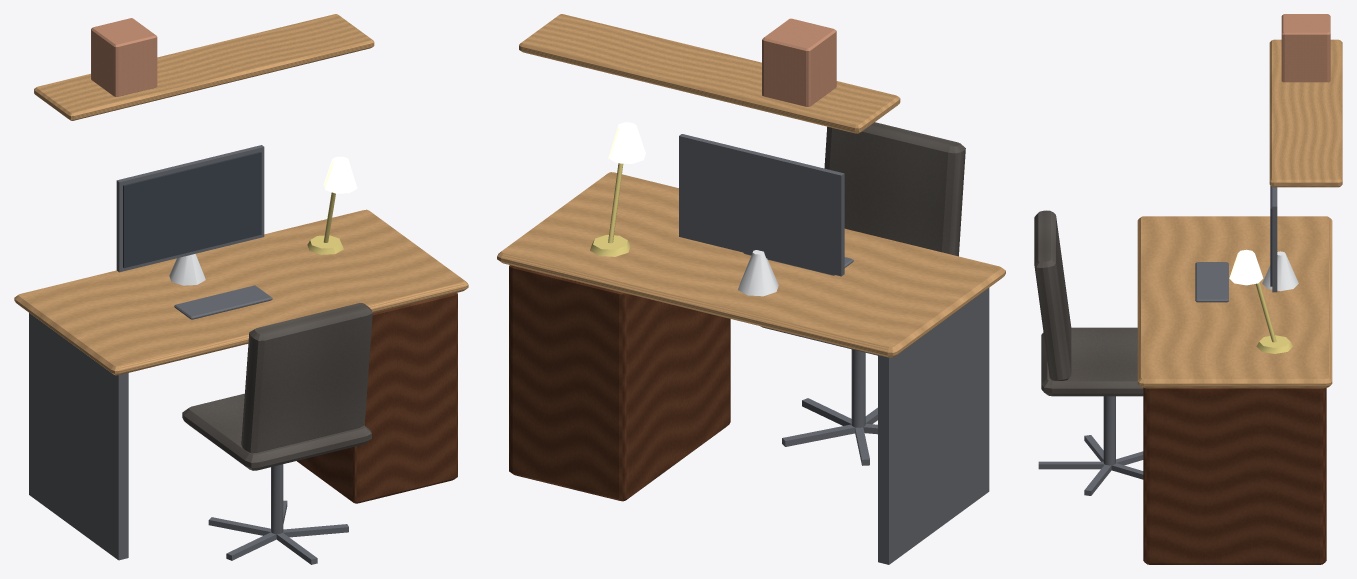
Rendered from work_desk_computer.glb.
The picture shows the model from 3 angles, left to right: view 1: azimuth 30°, elevation 25°; view 2: azimuth 150°, elevation 25°; view 3: azimuth 270°, elevation 25°; orthographic projection. The views are drawn at different scales.
Visible parts, largest first — view 1: work_desk_computer_woodOak, work_desk_computer_metalBlack, work_desk_computer_fabricCharcoal, work_desk_computer_woodWalnut, work_desk_computer_tvScreen, work_desk_computer_pillowTerra, work_desk_computer_emissiveWarm, work_desk_computer_metalChrome, work_desk_computer_metalBrass; view 2: work_desk_computer_woodOak, work_desk_computer_metalBlack, work_desk_computer_woodWalnut, work_desk_computer_fabricCharcoal, work_desk_computer_pillowTerra, work_desk_computer_metalChrome, work_desk_computer_emissiveWarm, work_desk_computer_metalBrass; view 3: work_desk_computer_woodOak, work_desk_computer_woodWalnut, work_desk_computer_fabricCharcoal, work_desk_computer_metalBlack, work_desk_computer_pillowTerra, work_desk_computer_emissiveWarm, work_desk_computer_metalBrass, work_desk_computer_metalChrome.
Boxes of the visible parts, x1,y1,x2,y2 form: work_desk_computer_woodOak: (14, 14, 468, 375); work_desk_computer_metalBlack: (29, 145, 348, 564); work_desk_computer_fabricCharcoal: (182, 303, 372, 470); work_desk_computer_woodWalnut: (297, 293, 457, 503); work_desk_computer_tvScreen: (123, 152, 261, 268); work_desk_computer_pillowTerra: (91, 18, 157, 96); work_desk_computer_emissiveWarm: (323, 156, 357, 193); work_desk_computer_metalChrome: (169, 254, 205, 285); work_desk_computer_metalBrass: (307, 192, 343, 254); work_desk_computer_woodOak: (497, 14, 1005, 357); work_desk_computer_metalBlack: (679, 134, 989, 564); work_desk_computer_woodWalnut: (509, 265, 730, 501); work_desk_computer_fabricCharcoal: (760, 122, 965, 355); work_desk_computer_pillowTerra: (762, 18, 836, 106); work_desk_computer_metalChrome: (738, 250, 778, 296); work_desk_computer_emissiveWarm: (608, 122, 645, 163); work_desk_computer_metalBrass: (590, 163, 630, 256); work_desk_computer_woodOak: (1137, 39, 1342, 387); work_desk_computer_woodWalnut: (1143, 387, 1326, 564); work_desk_computer_fabricCharcoal: (1034, 210, 1143, 396); work_desk_computer_metalBlack: (1038, 187, 1277, 495); work_desk_computer_pillowTerra: (1281, 14, 1330, 82); work_desk_computer_emissiveWarm: (1229, 249, 1263, 285); work_desk_computer_metalBrass: (1255, 282, 1292, 353); work_desk_computer_metalChrome: (1262, 251, 1298, 291).
Size of what is drawn, in the model's own units: 1.4 by 1.68 by 1.1.
9 materials, 4 textured.
